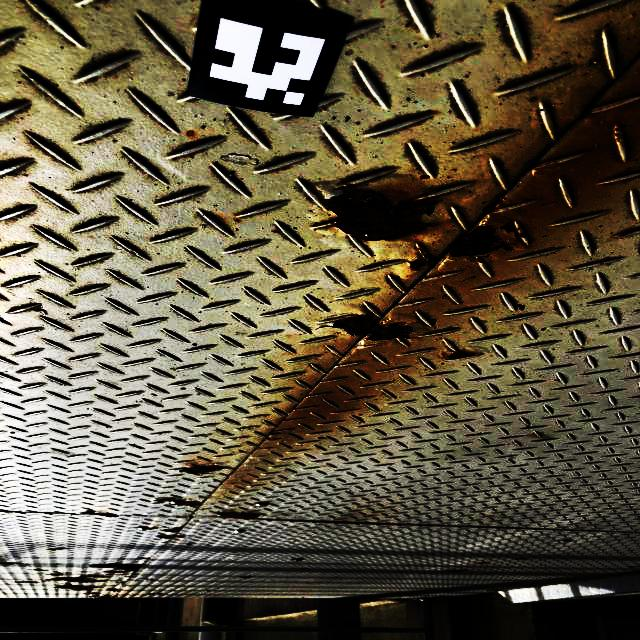Corrosion: (326, 190, 436, 240), (333, 312, 414, 341), (450, 225, 506, 256), (410, 242, 437, 270), (89, 563, 143, 574), (178, 464, 227, 476), (48, 574, 111, 583), (498, 224, 526, 239), (216, 511, 259, 519), (55, 583, 98, 591), (441, 351, 477, 360), (84, 510, 118, 517), (174, 500, 199, 506), (163, 525, 184, 532), (157, 532, 178, 539), (157, 499, 174, 503), (99, 594, 115, 598), (85, 591, 100, 595), (47, 548, 63, 551), (0, 562, 15, 565), (107, 588, 118, 592), (17, 581, 38, 583), (50, 573, 63, 576), (448, 570, 464, 572), (33, 569, 47, 571), (92, 595, 98, 597), (121, 581, 125, 584)
